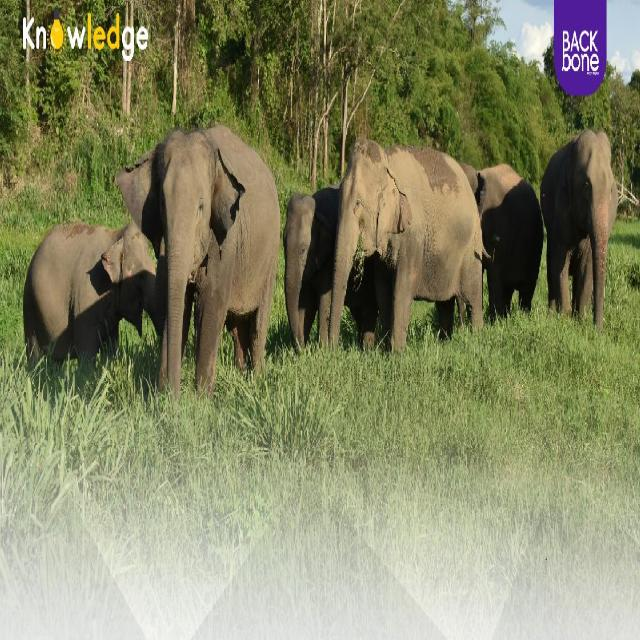Elephant: (128, 108, 282, 406), (339, 122, 489, 375), (20, 204, 154, 428), (550, 118, 622, 348), (286, 179, 336, 392), (492, 152, 545, 350)
